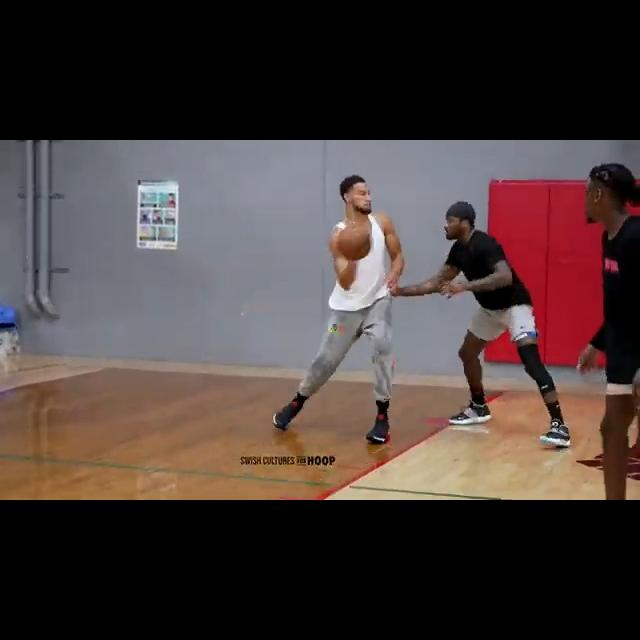basketball: (337, 224, 373, 261)
person: (270, 173, 407, 447), (431, 204, 571, 452), (569, 165, 640, 500)
